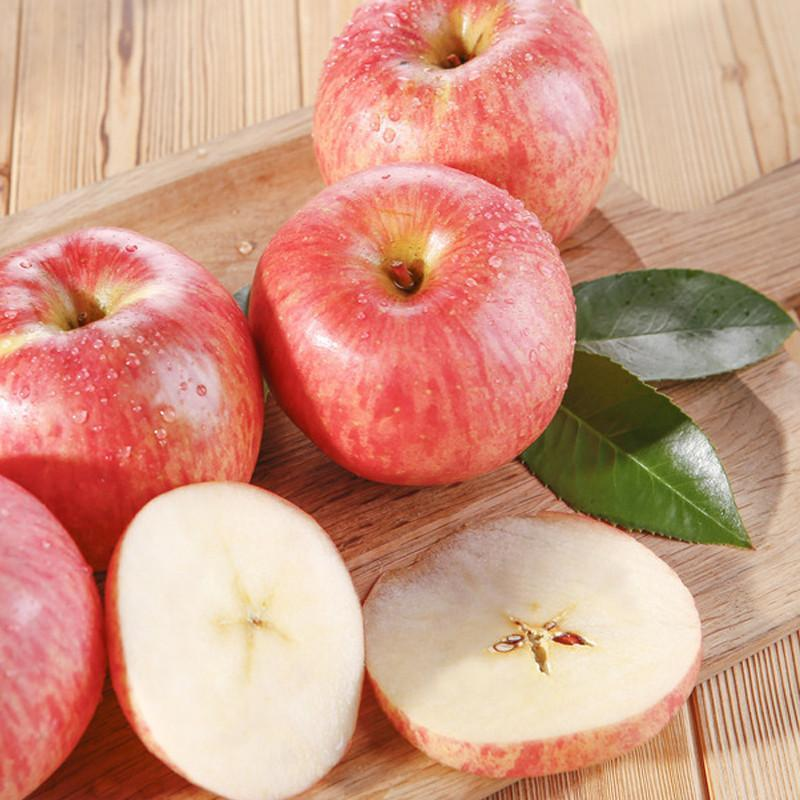apple: (246, 165, 578, 491), (1, 225, 257, 585), (306, 1, 625, 244), (1, 475, 104, 794)
